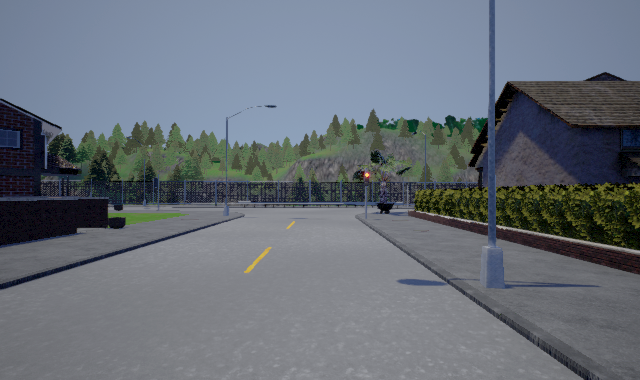traffic_light: (364, 170, 369, 189)
